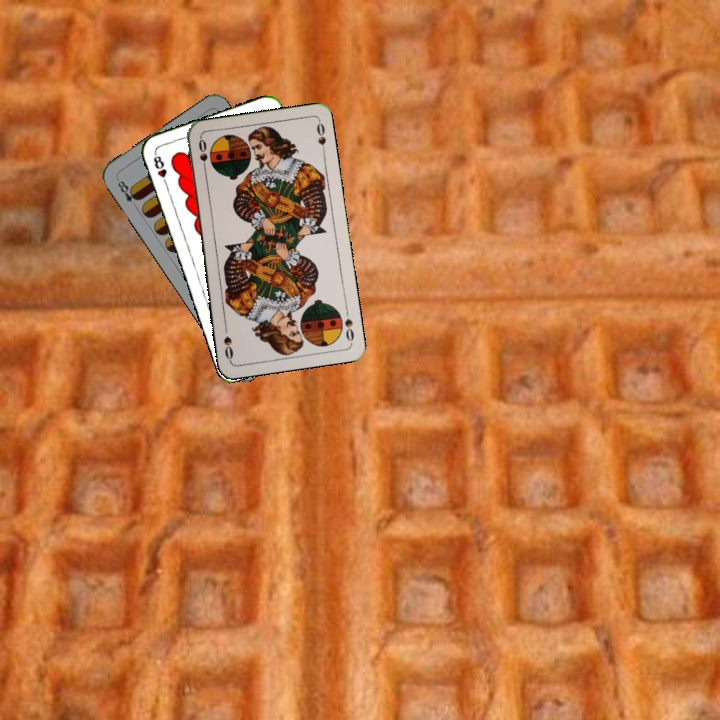E8: (113, 174, 142, 211)
H8: (149, 149, 170, 189)
SO: (340, 304, 357, 344), (194, 135, 210, 176)
